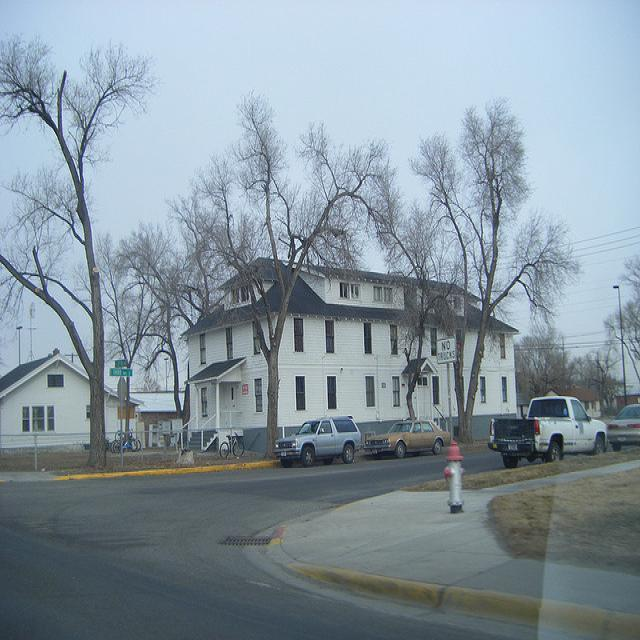fire_hydrant: (444, 436, 465, 515)
